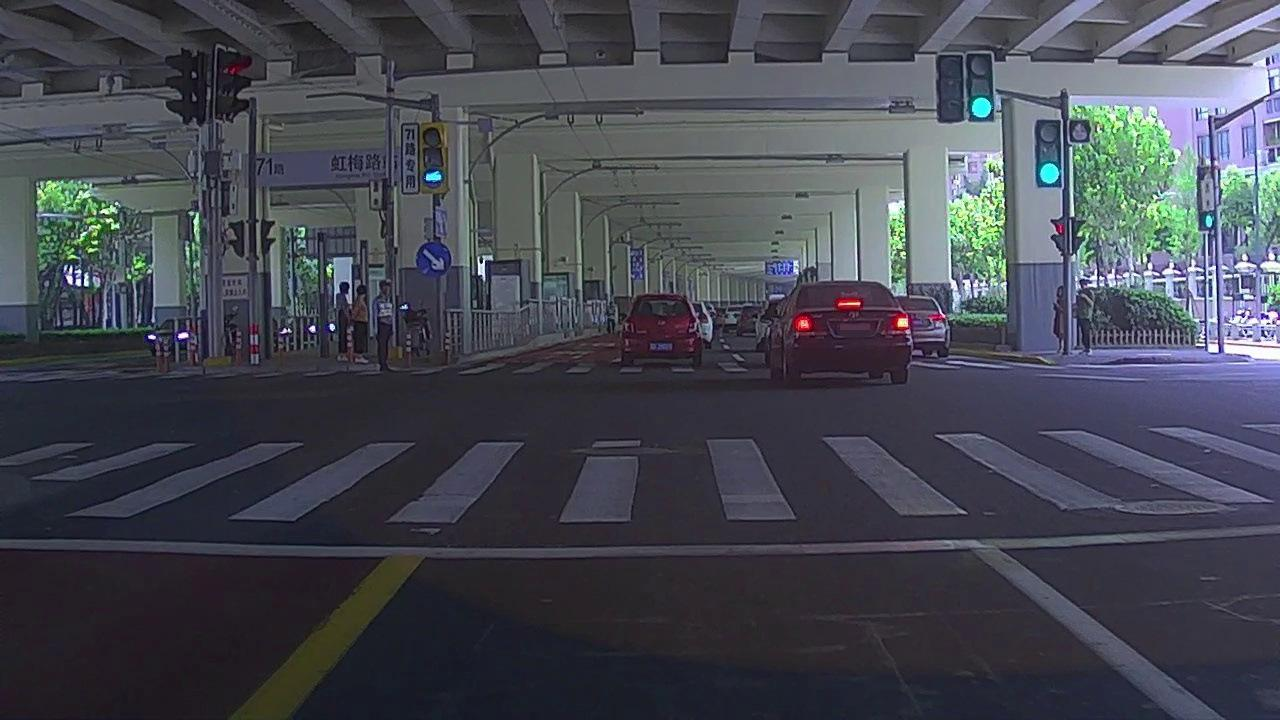traffic_light: (967, 52, 993, 123), (936, 55, 963, 123), (1035, 120, 1061, 188)
